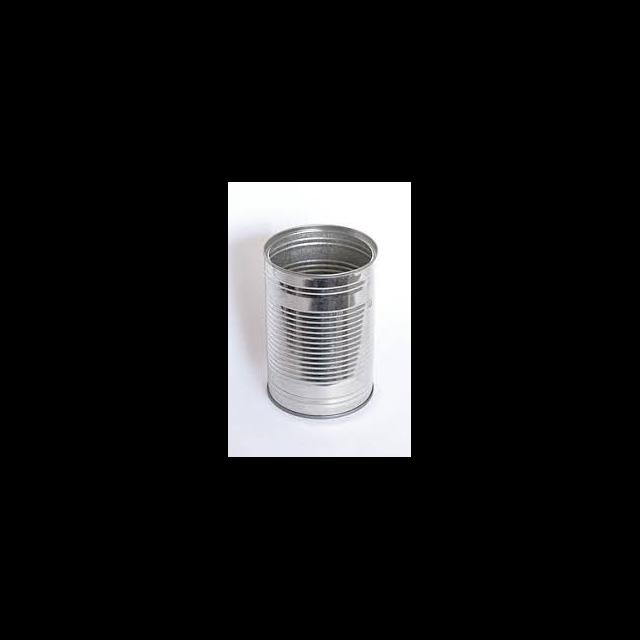metal: (264, 225, 376, 418)
